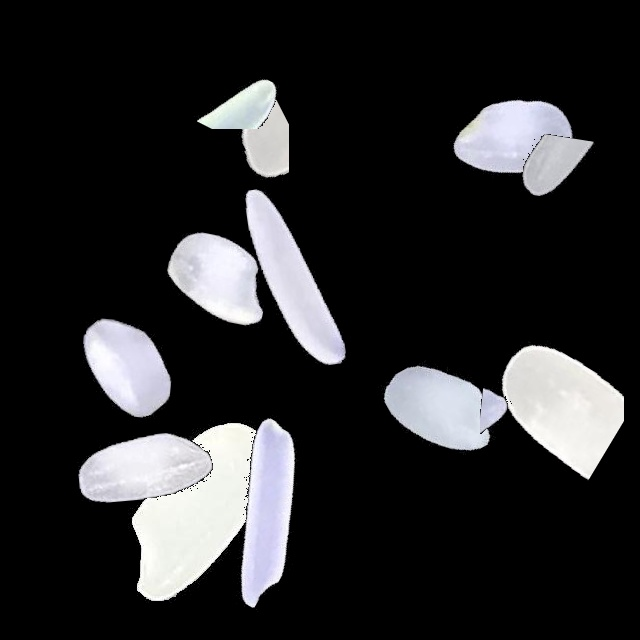Broken: (469, 274, 624, 524), (495, 75, 622, 325), (102, 17, 352, 129), (480, 295, 577, 545), (249, 246, 499, 330), (206, 9, 289, 259), (384, 151, 461, 401)
Full: (169, 153, 419, 403), (2, 244, 252, 494), (389, 14, 639, 264), (80, 385, 330, 635), (313, 284, 563, 534), (137, 387, 387, 637), (91, 151, 341, 401), (21, 340, 271, 590)
